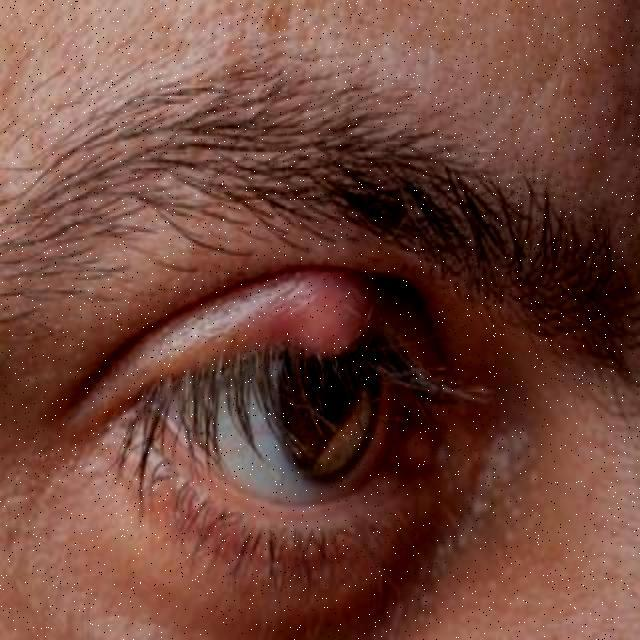Stye: (230, 244, 398, 424)
